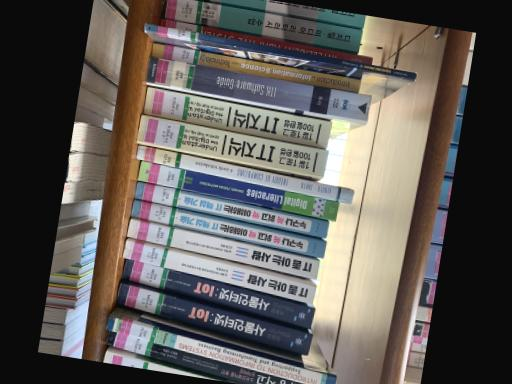book-spine: (105, 316, 336, 384), (143, 23, 416, 79), (114, 282, 311, 355), (144, 56, 370, 119), (121, 259, 314, 328), (121, 239, 315, 304), (135, 146, 353, 203), (142, 86, 331, 148), (136, 162, 338, 220), (135, 115, 327, 176), (125, 219, 318, 279), (130, 201, 325, 257), (105, 330, 304, 384), (150, 42, 360, 93), (134, 183, 327, 238), (159, 0, 361, 51), (157, 18, 371, 64), (209, 0, 364, 26)
